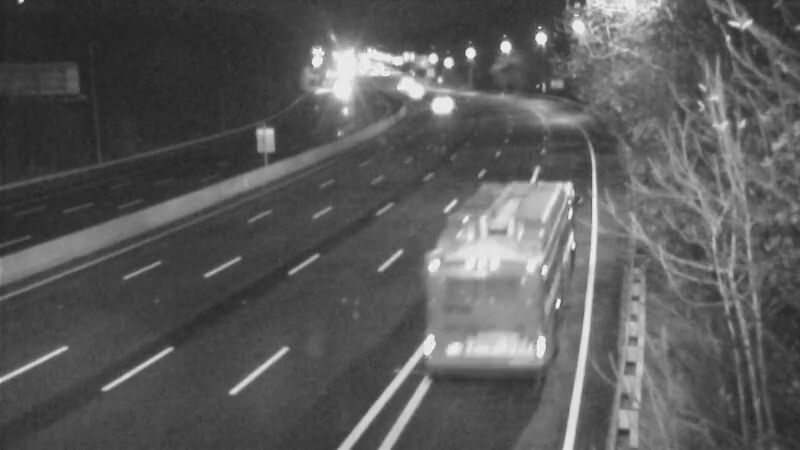vehicle: (457, 235, 537, 315), (413, 78, 463, 128)
